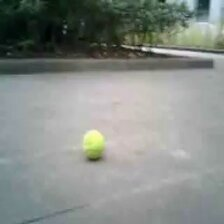tennis: (83, 129, 104, 159)
